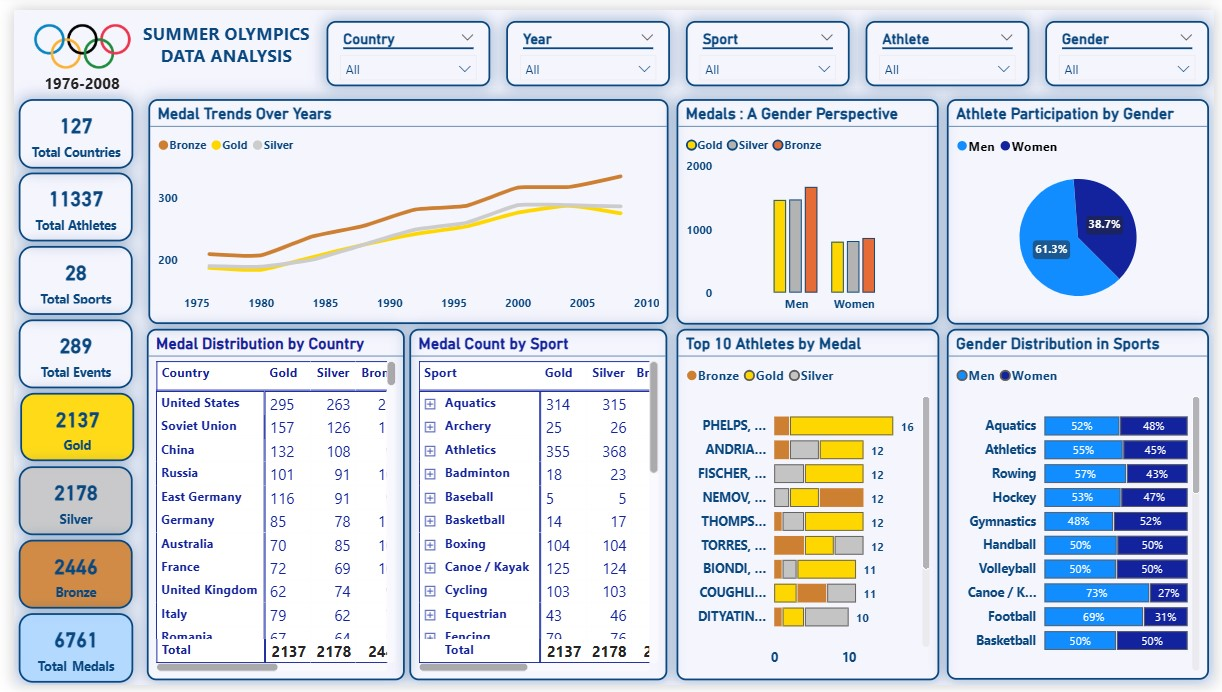

The dashboard page shown, as its layout file describes it:
{"tool":"powerbi","page":{"name":"Page 1","canvas":[1280,720],"ordinal":0},"visuals":[{"type":"image","box":[0,0,146.7,73.3],"z":1000},{"type":"pivotTable","title":"Medal Distribution by Country","fields":{"Rows":["Olympic_cleaned_data.Country"],"Values":["_Mesaures.Gold","_Mesaures.Silver","_Mesaures.Bronze","_Mesaures.Totla_medals"]},"box":[141.7,339.8,275.4,375.2],"z":2000},{"type":"lineChart","title":"Medal Trends Over Years","fields":{"Category":["Olympic_cleaned_data.Year"],"Y":["_Mesaures.Totla_medals"],"Series":["Olympic_cleaned_data.Medal"]},"box":[142.5,95,555,240],"z":3000},{"type":"card","fields":{"Values":["Olympic_cleaned_data.Country"]},"box":[5,95,122,74],"z":4000},{"type":"pivotTable","title":"Medal Count by Sport","fields":{"Rows":["Olympic_cleaned_data.Sport","Olympic_cleaned_data.Discipline","Olympic_cleaned_data.Event"],"Values":["_Mesaures.Gold","_Mesaures.Silver","_Mesaures.Bronze","_Mesaures.Totla_medals"]},"box":[421.9,339.8,275.4,375.2],"z":5000},{"type":"textbox","box":[16.7,61.7,111.7,38.3],"z":6000},{"type":"card","fields":{"Values":["Olympic_cleaned_data.Athlete"]},"box":[5,173.3,121.7,73.3],"z":7000},{"type":"card","fields":{"Values":["Olympic_cleaned_data.Sport"]},"box":[5,251.7,121.7,73.3],"z":8000},{"type":"card","fields":{"Values":["Olympic_cleaned_data.Event"]},"box":[5,330,121.7,73.3],"z":9000},{"type":"card","fields":{"Values":["_Mesaures.Gold"]},"box":[6.7,408.3,121.7,73],"z":10000},{"type":"card","fields":{"Values":["_Mesaures.Silver"]},"box":[5,486.7,121.7,73.3],"z":11000},{"type":"card","fields":{"Values":["_Mesaures.Bronze"]},"box":[5,565,121.7,73.3],"z":12000},{"type":"card","fields":{"Values":["_Mesaures.Totla_medals"]},"box":[5,643.3,122,74],"z":13000},{"type":"slicer","fields":{"Values":["Olympic_cleaned_data.Country"]},"box":[333.2,11.1,175,70],"z":14000},{"type":"slicer","fields":{"Values":["Olympic_cleaned_data.Year"]},"box":[524.9,11.1,175,70],"z":15000},{"type":"slicer","fields":{"Values":["Olympic_cleaned_data.Sport"]},"box":[716.6,11.1,175,70],"z":16000},{"type":"slicer","fields":{"Values":["Olympic_cleaned_data.Athlete"]},"box":[908.2,11.1,175,70],"z":17000},{"type":"slicer","fields":{"Values":["Olympic_cleaned_data.Gender"]},"box":[1099.9,11.1,175,70],"z":18000},{"type":"textbox","box":[123.3,6.7,206.7,70],"z":19000},{"type":"pieChart","title":"Athlete Participation by Gender","fields":{"Category":["Olympic_cleaned_data.Gender"],"Y":["Olympic_cleaned_data.Athlete"]},"box":[995.7,94.8,279.4,240.9],"z":20000},{"type":"clusteredColumnChart","title":"Medals : A Gender Perspective","fields":{"Category":["Olympic_cleaned_data.Gender"],"Y":["_Mesaures.Gold","_Mesaures.Silver","_Mesaures.Bronze"]},"box":[706.6,94.8,279.4,240.9],"z":21000},{"type":"barChart","title":"Top 10 Athletes by Medal","fields":{"Category":["Olympic_cleaned_data.Athlete"],"Y":["Olympic_cleaned_data.Medal"],"Series":["Olympic_cleaned_data.Medal"]},"box":[706.7,340,280,375],"z":22000},{"type":"hundredPercentStackedBarChart","title":"Gender Distribution in Sports","fields":{"Category":["Olympic_cleaned_data.Sport"],"Series":["Olympic_cleaned_data.Gender"],"Y":["Olympic_cleaned_data.Gender"]},"box":[995.7,340.5,279.4,374.2],"z":23000}]}

Visuals, with their boxes in screenshot pixels (x1, y1, x2, y2), scaled from the page's 1280x720 canvas onto the 1222x692 screenshot:
image: bbox=(0, 0, 140, 70)
"Medal Distribution by Country" pivotTable: bbox=(135, 327, 398, 687)
"Medal Trends Over Years" lineChart: bbox=(136, 91, 666, 322)
card - Olympic_cleaned_data.Country: bbox=(5, 91, 121, 162)
"Medal Count by Sport" pivotTable: bbox=(403, 327, 666, 687)
textbox: bbox=(16, 59, 123, 96)
card - Olympic_cleaned_data.Athlete: bbox=(5, 167, 121, 237)
card - Olympic_cleaned_data.Sport: bbox=(5, 242, 121, 312)
card - Olympic_cleaned_data.Event: bbox=(5, 317, 121, 388)
card - _Mesaures.Gold: bbox=(6, 392, 123, 463)
card - _Mesaures.Silver: bbox=(5, 468, 121, 538)
card - _Mesaures.Bronze: bbox=(5, 543, 121, 613)
card - _Mesaures.Totla_medals: bbox=(5, 618, 121, 689)
slicer - Olympic_cleaned_data.Country: bbox=(318, 11, 485, 78)
slicer - Olympic_cleaned_data.Year: bbox=(501, 11, 668, 78)
slicer - Olympic_cleaned_data.Sport: bbox=(684, 11, 851, 78)
slicer - Olympic_cleaned_data.Athlete: bbox=(867, 11, 1034, 78)
slicer - Olympic_cleaned_data.Gender: bbox=(1050, 11, 1217, 78)
textbox: bbox=(118, 6, 315, 74)
"Athlete Participation by Gender" pieChart: bbox=(951, 91, 1217, 323)
"Medals : A Gender Perspective" clusteredColumnChart: bbox=(675, 91, 941, 323)
"Top 10 Athletes by Medal" barChart: bbox=(675, 327, 942, 687)
"Gender Distribution in Sports" hundredPercentStackedBarChart: bbox=(951, 327, 1217, 687)
